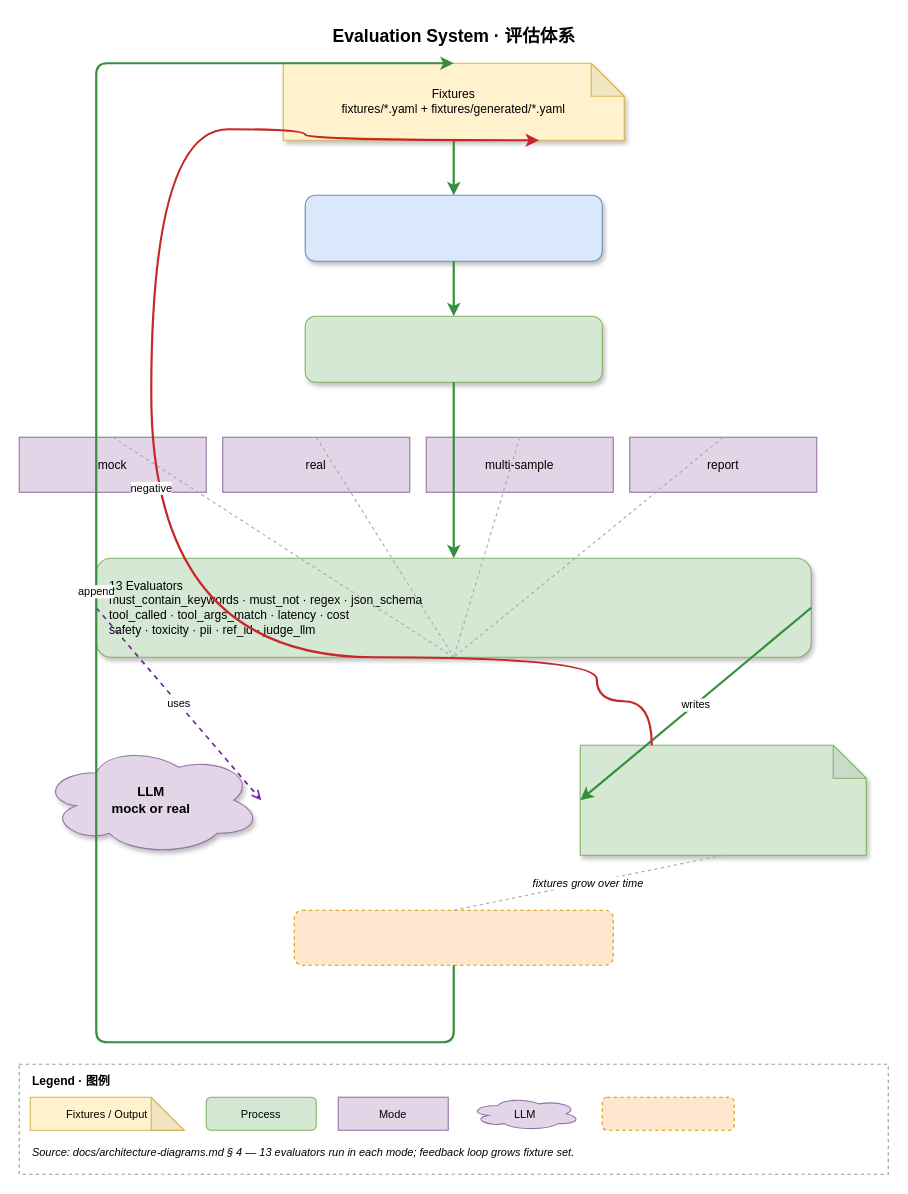
This 908x1194 diagram has some shape labels left out. The centre of each missing label's shape, as x and y in pixels:
CLI / API entry eval · evalApi: (x=454, y=229)
Feedback Loop negative feedback → fixtureConverter → new YAML: (x=453, y=937)
Feedback path: (x=667, y=1113)
Output JSON report · HTML report · score: (x=724, y=801)
Runner: (x=454, y=350)
